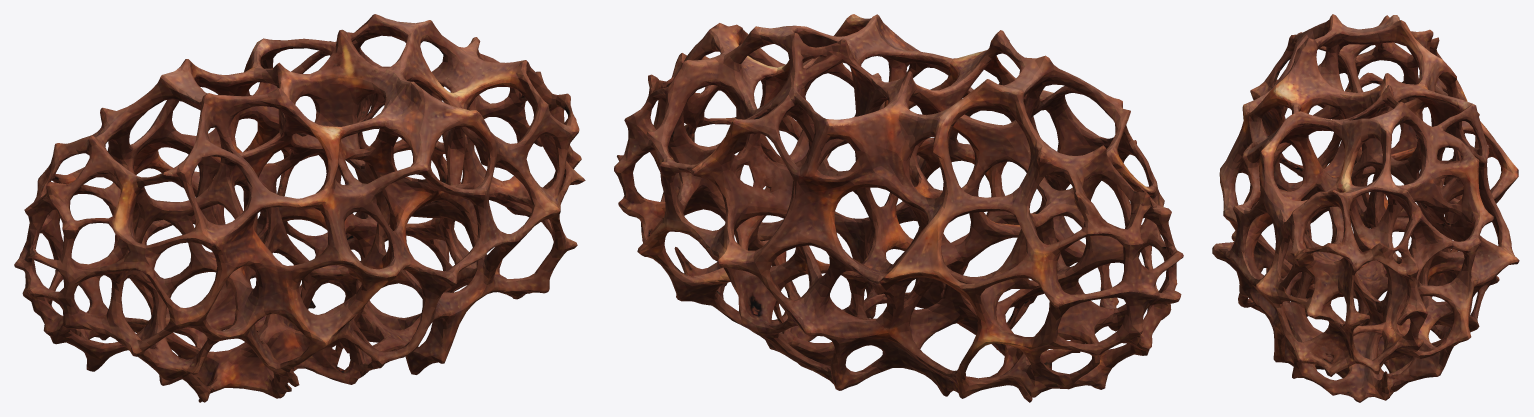
3 views of the same model, side by side, from view 1: azimuth 30°, elevation 25°; view 2: azimuth 150°, elevation 25°; view 3: azimuth 270°, elevation 25° (orthographic). The views are drawn at different scales.
Visible parts, largest first — view 1: world; view 2: world; view 3: world.
Boxes of the visible parts, <box> form: world: <box>14,14,585,402</box>; world: <box>614,14,1183,402</box>; world: <box>1212,14,1519,402</box>.
Size of the model in its own units: 1 by 0.5864 by 0.5631.
1 material, 1 textured.
